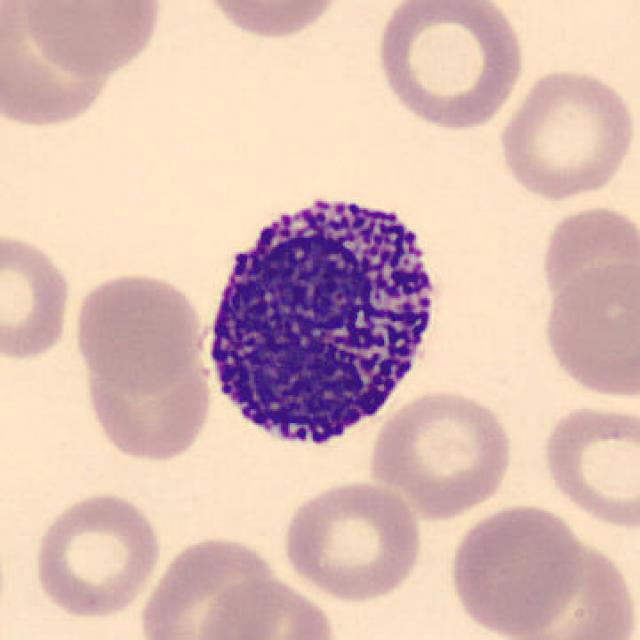Basophil: (189, 178, 455, 467)
RBC: (372, 0, 528, 134), (366, 384, 516, 520), (494, 65, 636, 205), (444, 501, 588, 636), (279, 476, 427, 603), (74, 330, 214, 462), (28, 488, 165, 622), (69, 268, 208, 395), (0, 2, 128, 134), (135, 530, 284, 640), (539, 257, 638, 404), (537, 398, 638, 532), (504, 550, 640, 640), (535, 200, 638, 318), (16, 0, 167, 79), (0, 226, 75, 365), (196, 575, 342, 640), (194, 0, 354, 42)
